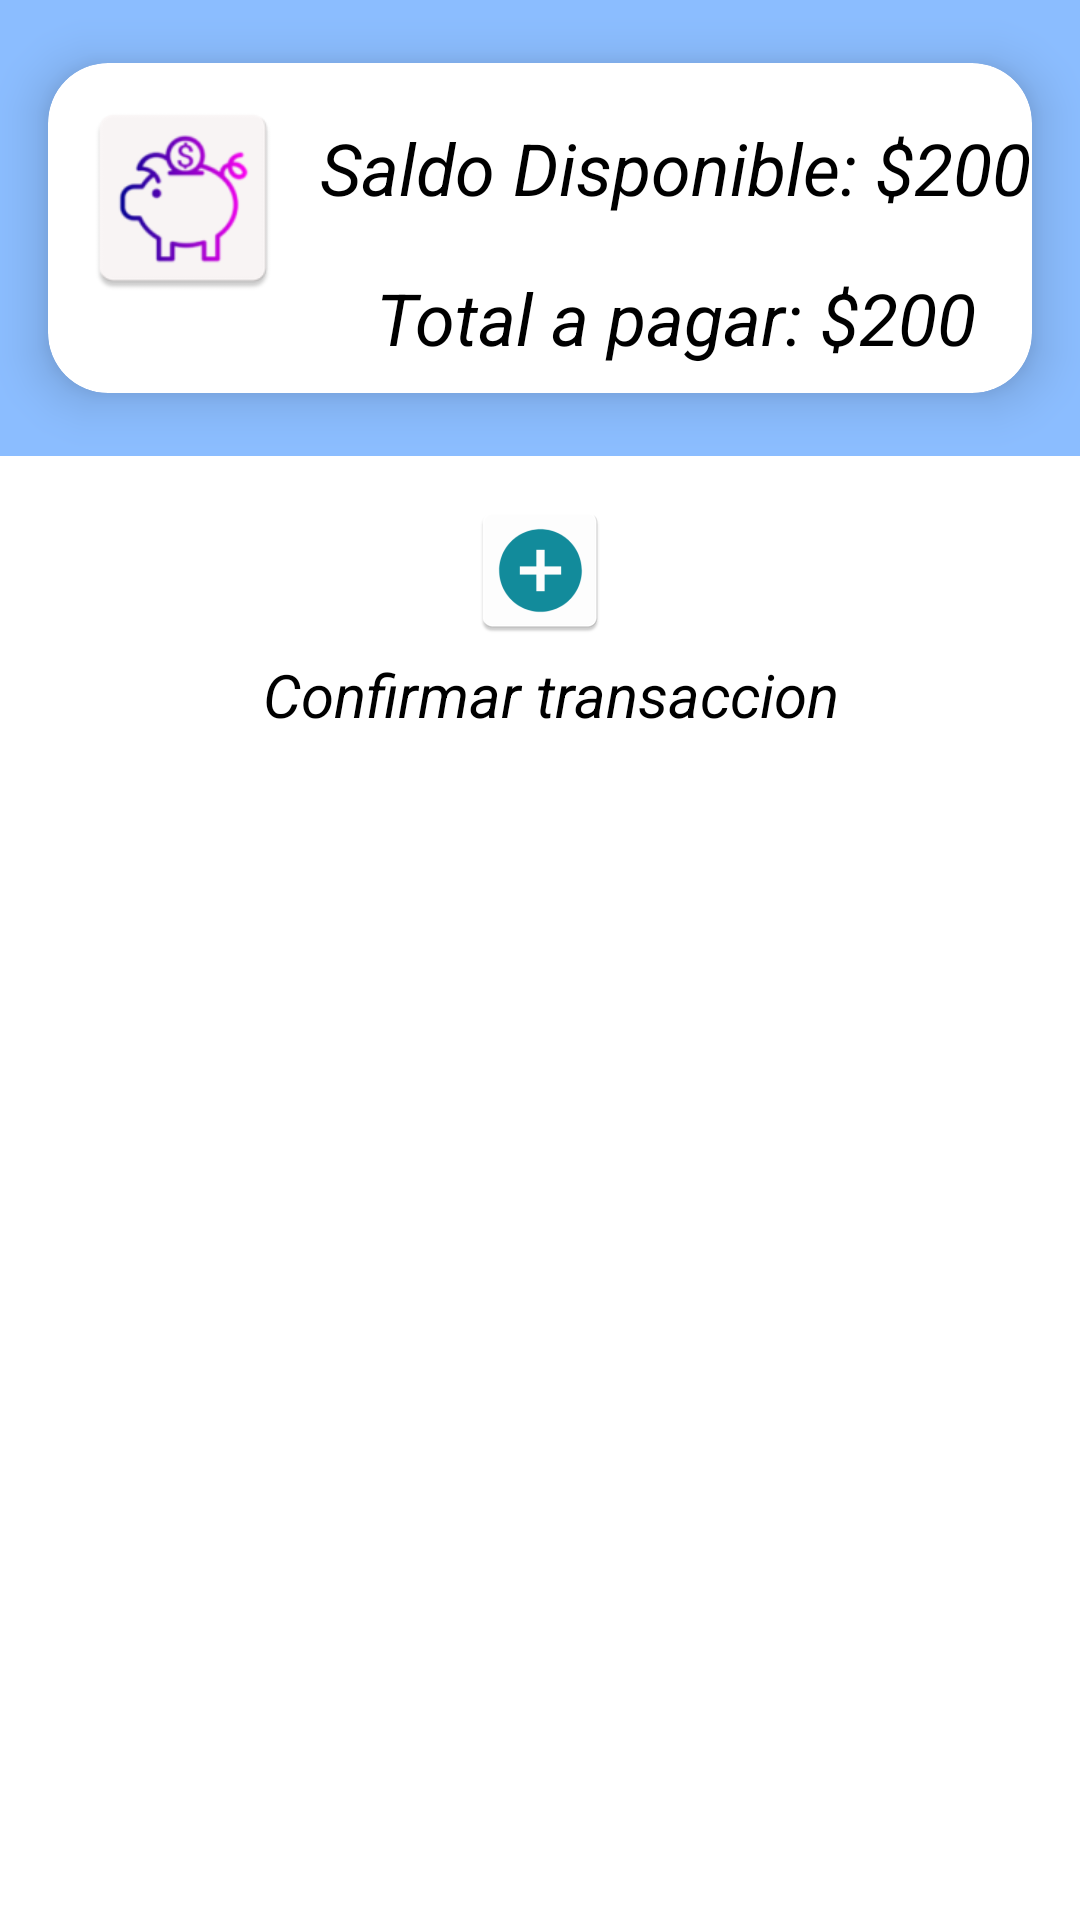

Named icons in this screenshot (1080px×1920px) and their centers, [x,y]:
balance: [183,201]
